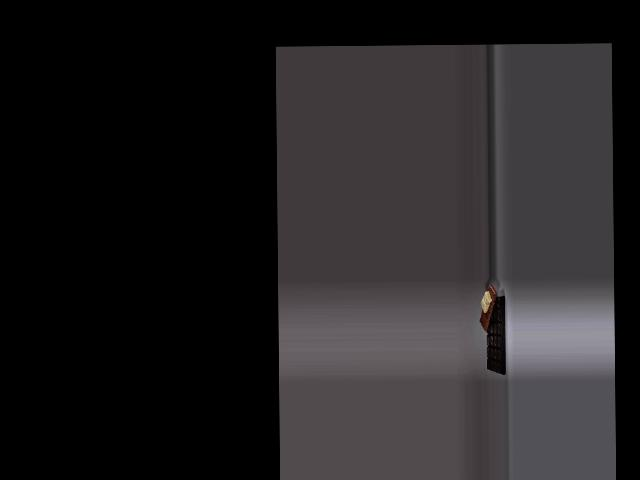chocolate: (483, 291, 508, 375)
